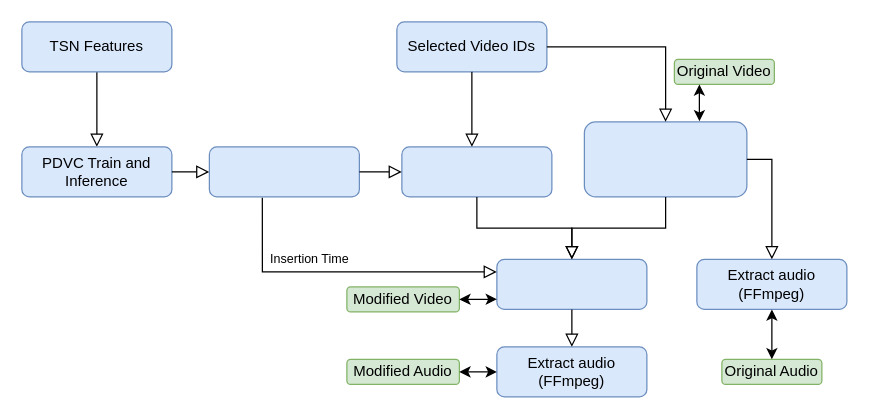
This 869x419 diagram has some shape labels left out. Here are the shapes that lost their labels. From the top down, the box of each, then its label:
(208, 146, 359, 197): Descriptions as a Dictionary (json file)
(401, 146, 552, 197): Convert to Audio files (gTTS)
(583, 121, 747, 197): Download original videos from YouTube (pytube)
(496, 258, 647, 309): Insert audio files in videos (FFmpeg)
